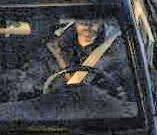seatbelt: (69, 27, 122, 76)
